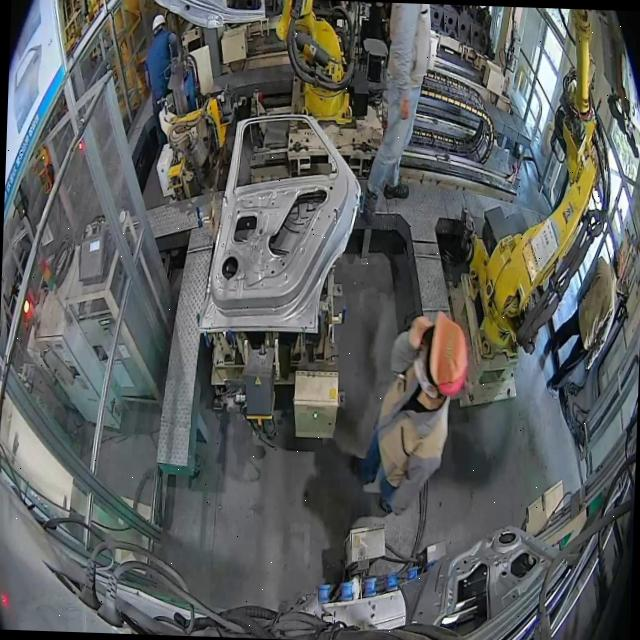Person: (350, 307, 470, 518), (361, 2, 432, 226), (542, 244, 624, 398), (141, 13, 180, 148)
